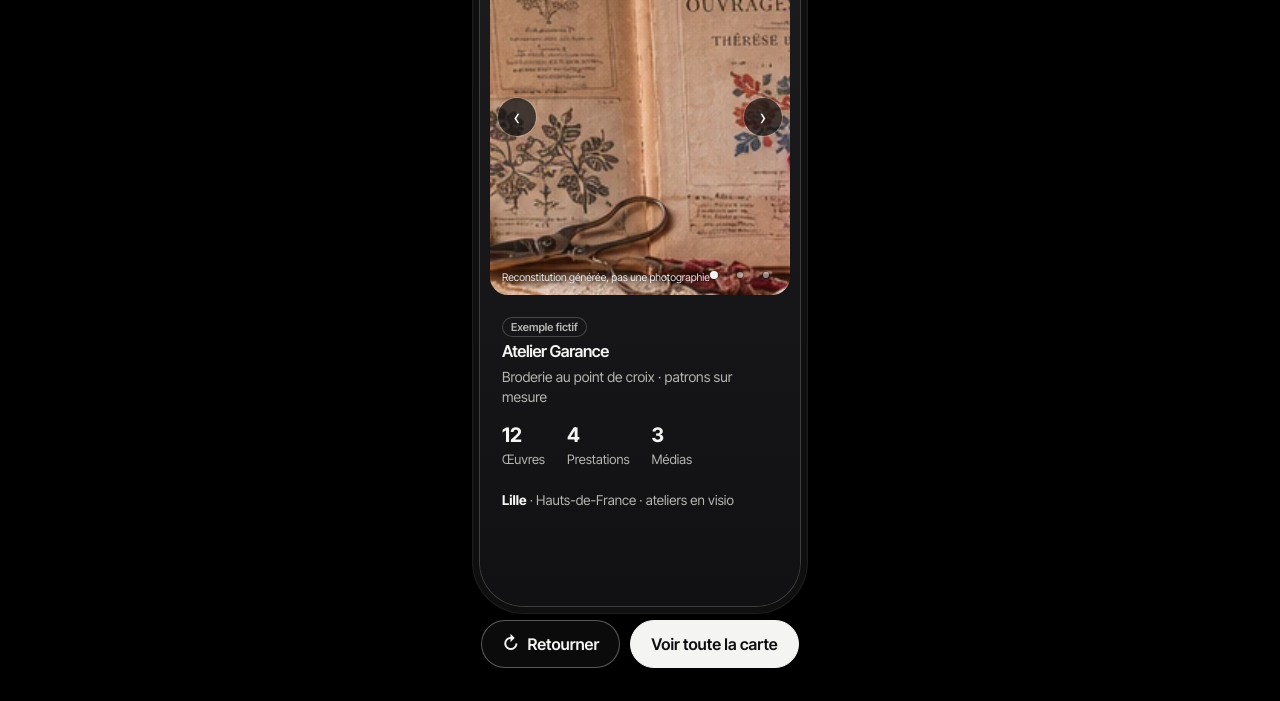
Scenario: La carte vivante, au clavier et au doigt › les actions : celles du rôle seulement ; réserver demande un créneau ; rien n'est envoyé
(page scrolled)
What coordinates should you click on to do the following:
click the button "Voir toute la carte"
I would click on:
 (714, 644)
Its box is [630,620,799,668].
(page scrolled)
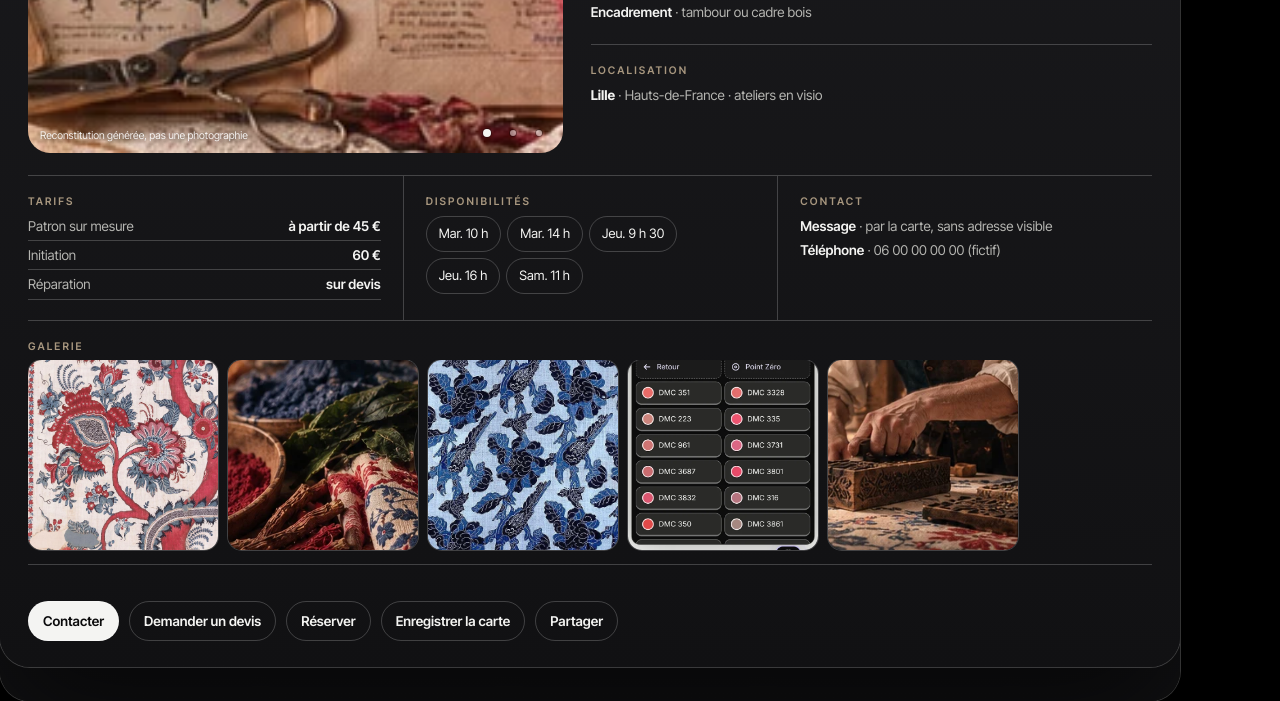
Now the button with class "cv-action" showing "Réserver" is shown
What coordinates should you click on to do the following:
click the button with class "cv-action" showing "Réserver"
I would click on:
 (328, 621)
Its box is [286,601,371,641].
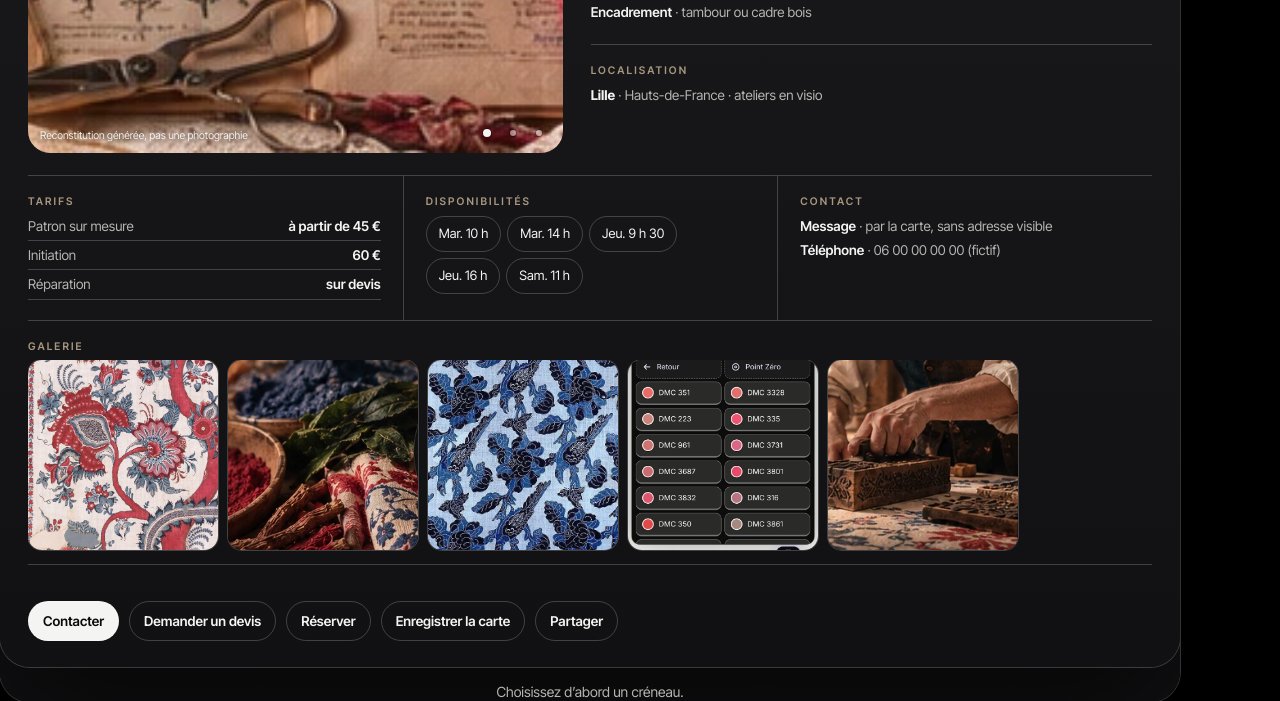
Now the message with class "cv-message" reads "Choisissez d’abord un créneau.", box [496,683,684,700]
What coordinates should you click on to do the following:
click the button with class "cv-creneau" showing "Mar. 10 h"
I would click on:
 (464, 234)
Its box is [426,216,501,252].
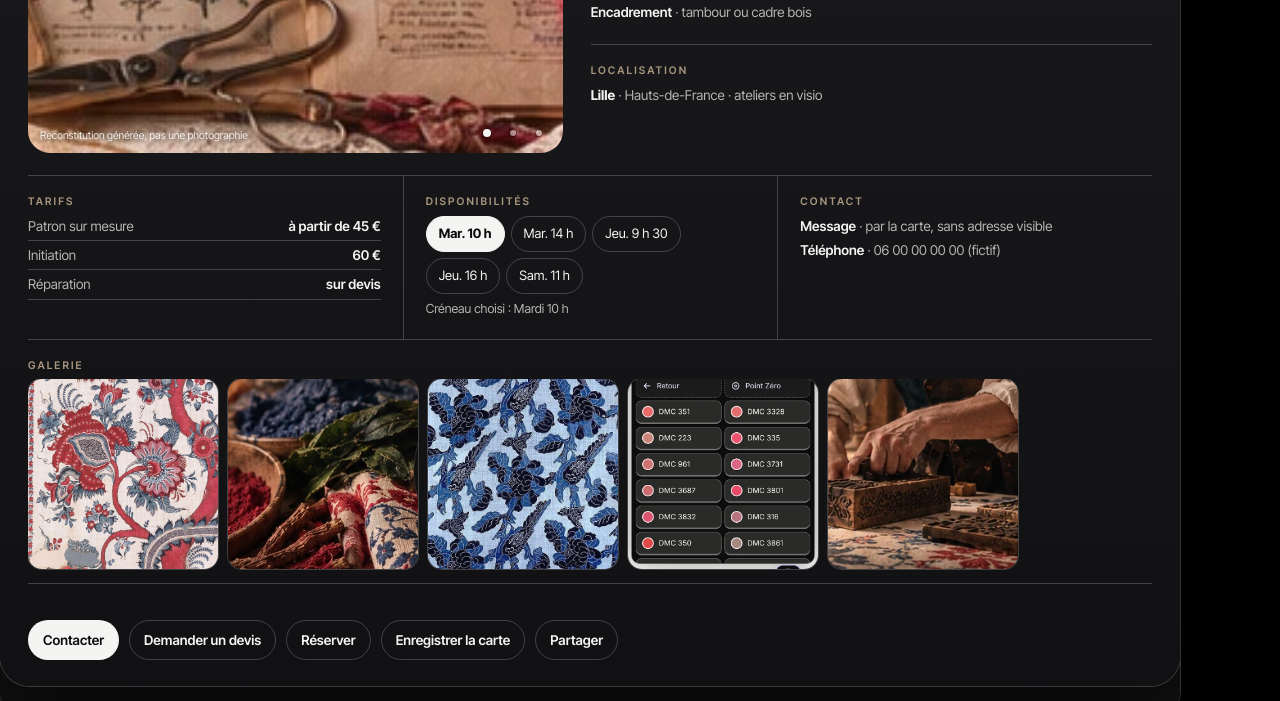
Now the button with class "cv-action" showing "Réserver" is shown
What coordinates should you click on to do the following:
click the button with class "cv-action" showing "Réserver"
I would click on:
 (328, 640)
Its box is [286,620,371,660].
(page scrolled)
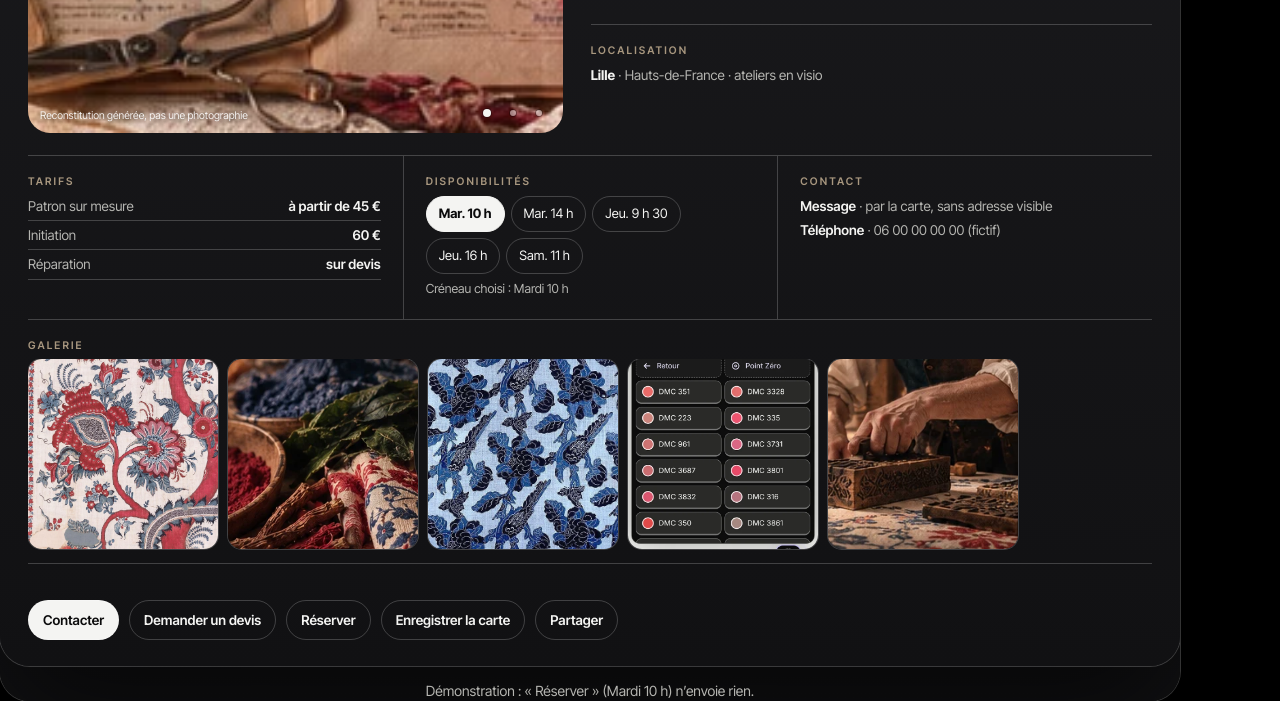
Now the message with class "cv-message" shows "Démonstration : « Réserver » (Mardi 10 h) n’envoie rien", box [426,682,754,699]
